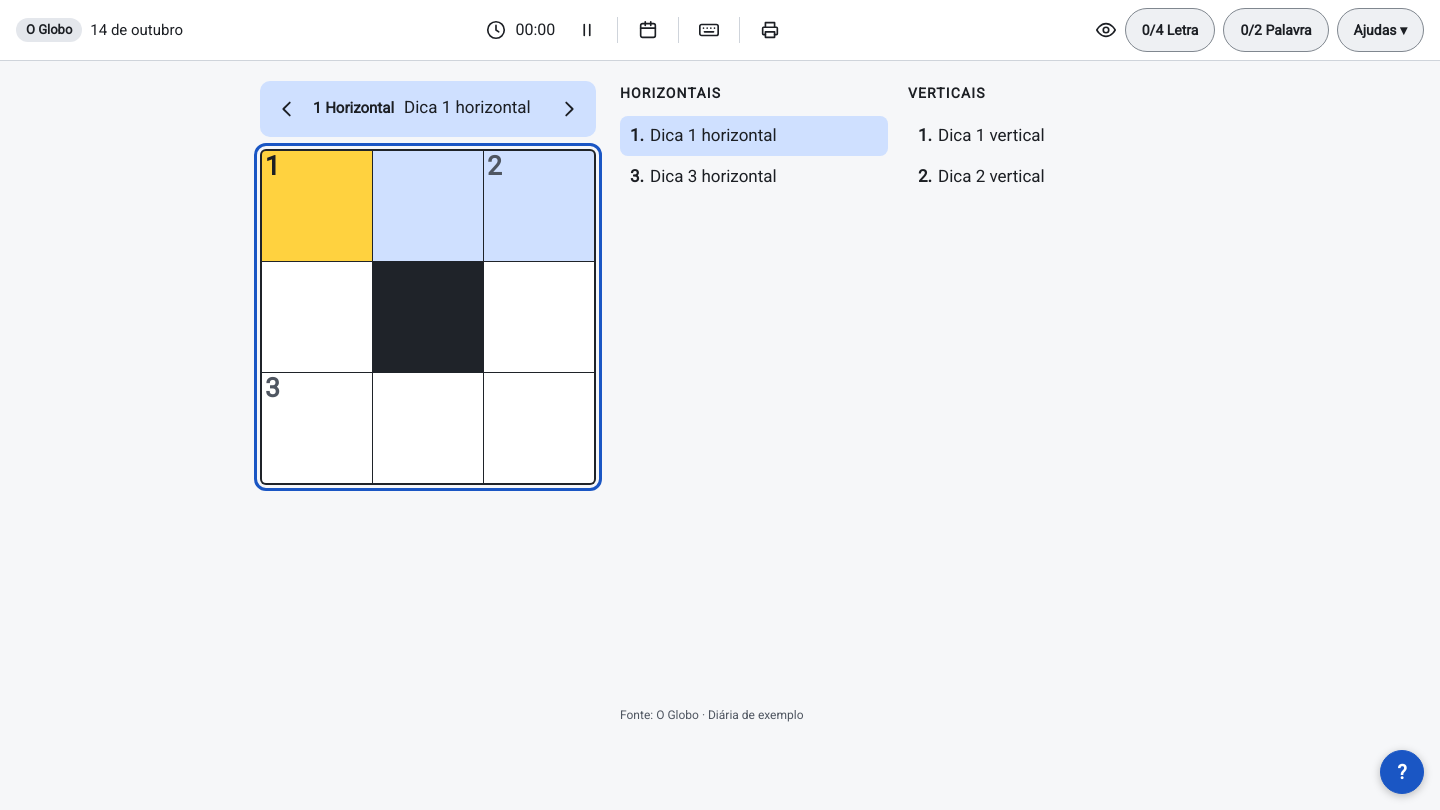
Test: GamePage › ajudas › revela uma letra, marca a célula e guarda o uso no aparelho
This screenshot has width=1440, height=810.
expect the table is shown: met, box [260,149,596,485]
Click the button with aria-label "Revelar letra": (1170, 30) [1125,8,1215,52]
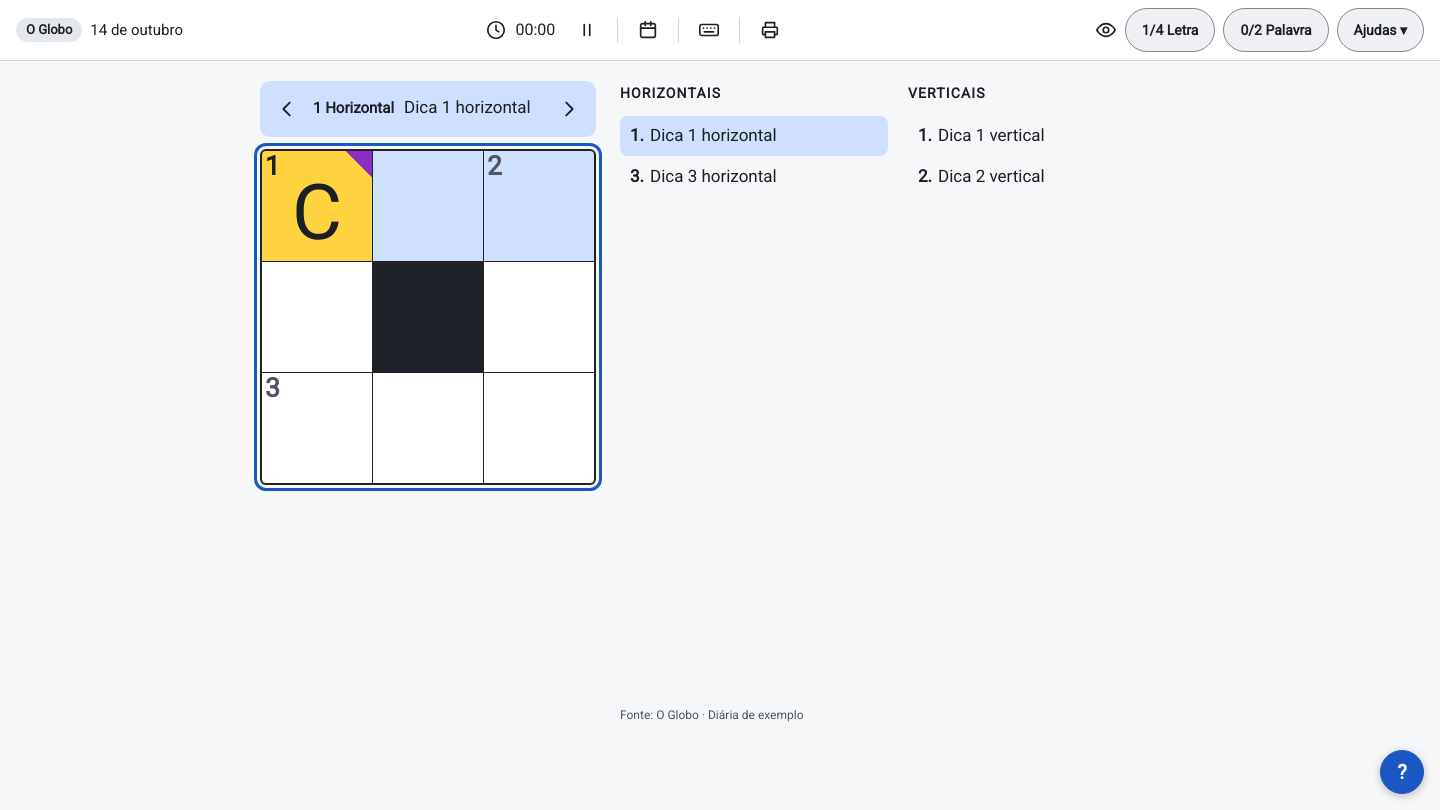
expect the text "1/4 Letra" is shown: met, box [1142,20,1198,40]
expect the cell named "Linha 1, coluna 1, letra C, com ajuda" is shown: met, box [262,151,372,261]
